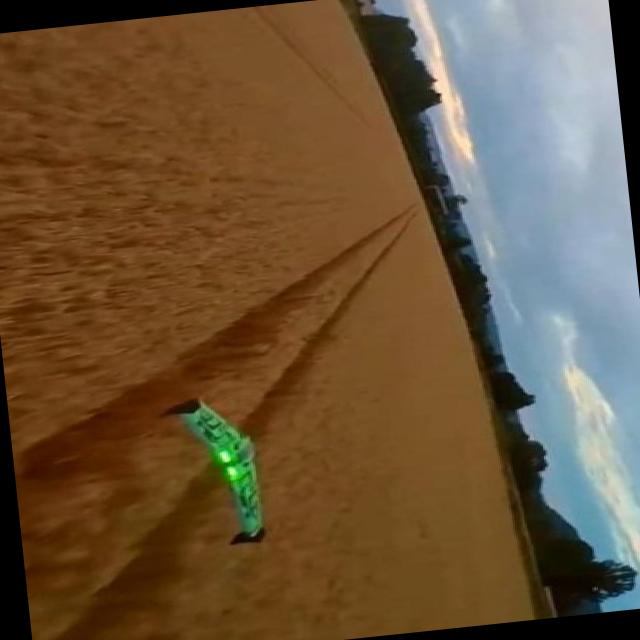UAV: (157, 364, 262, 548)
